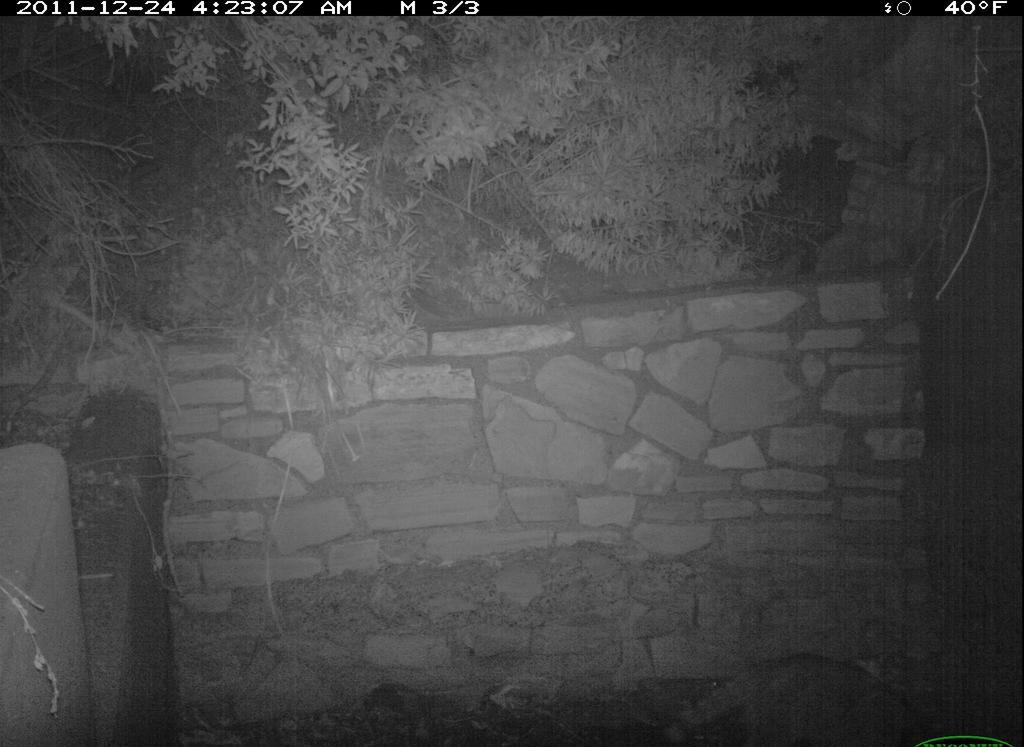raccoon: (665, 641, 937, 743)
